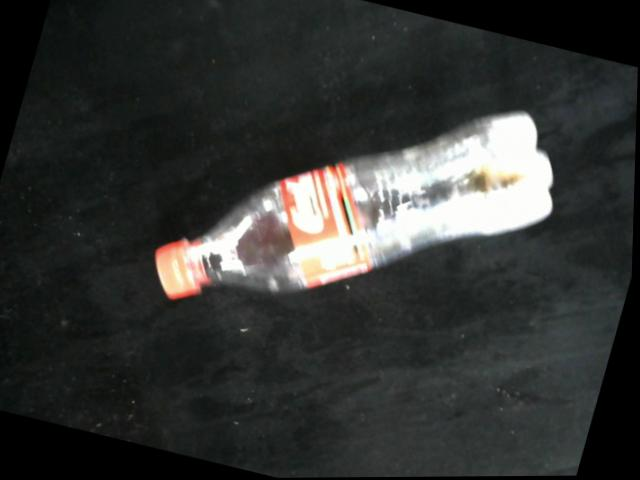bottle: (154, 110, 555, 302)
